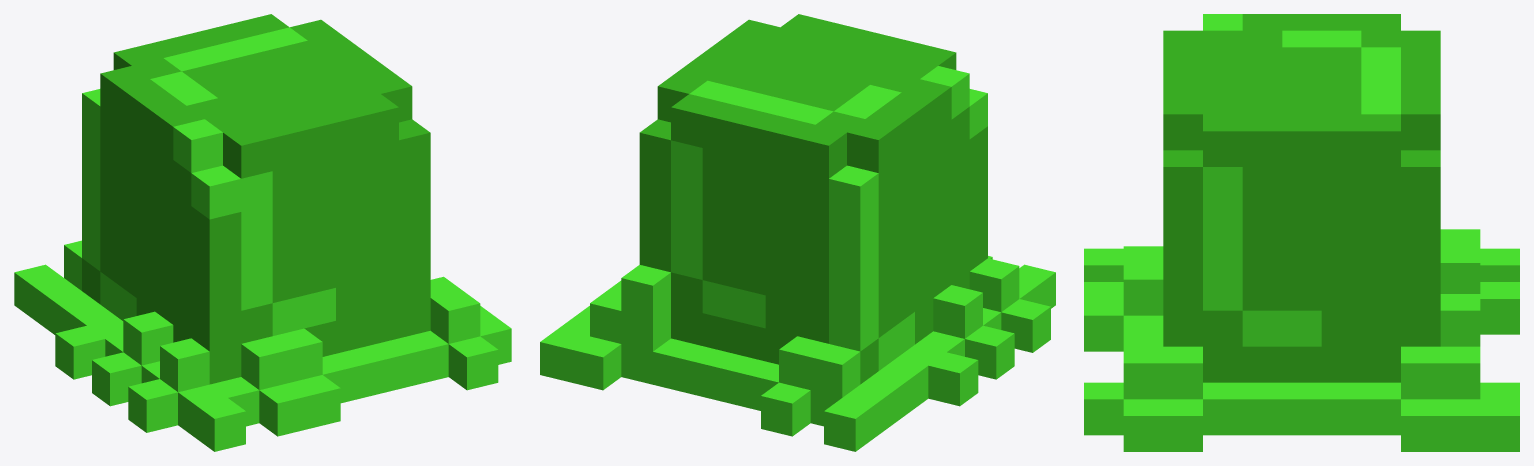
File: SmolSlime.obj
The picture shows the model from 3 angles, left to right: view 1: azimuth 30°, elevation 25°; view 2: azimuth 150°, elevation 25°; view 3: azimuth 270°, elevation 25°; orthographic projection. The views are drawn at different scales.
Bounding box in the file's own units: 1.1 × 0.8 × 1.1.
1 material, 1 textured.
